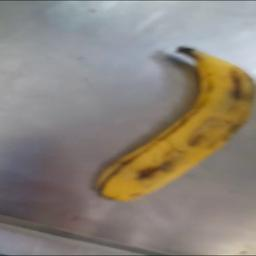Banana Semirotten: (67, 29, 256, 214)
